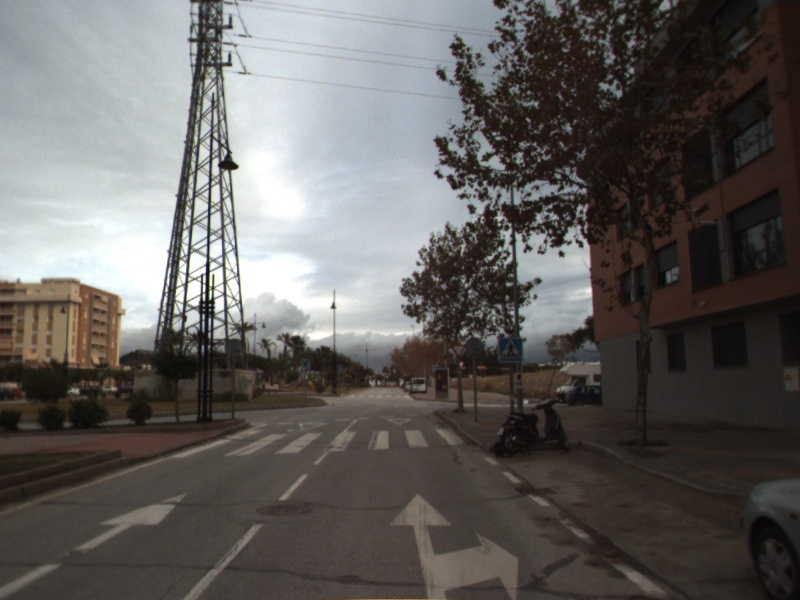STRAIGHT: (1, 491, 189, 600)
STRAIGHT_RIGHT: (388, 492, 520, 600)
